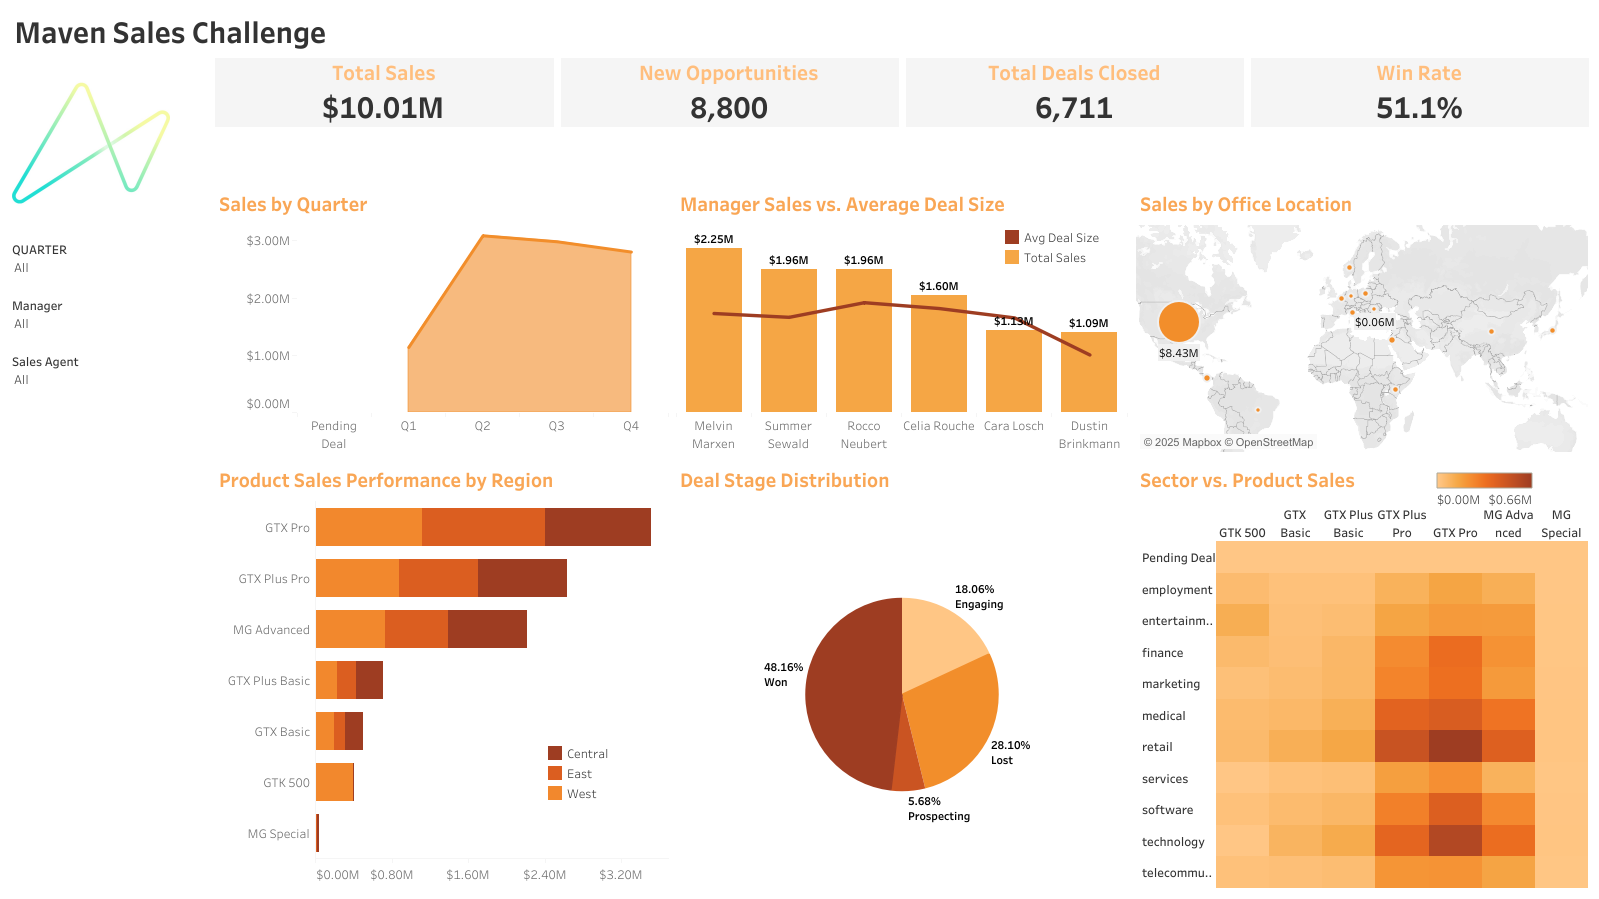

What the dashboard file says about the page in this screenshot:
{"tool":"tableau","page":{"name":"Dashboard 1","canvas":[1600,900],"ordinal":0},"visuals":[{"type":"title","box":[8,8,1584,46]},{"type":"image","param":"Image/IMG_20250310_220625.jpg","box":[8,54,203,181]},{"type":"worksheet","title":"Total Sales","mark":"Automatic","box":[211,54,346,126]},{"type":"worksheet","title":"New Opportunities","mark":"Automatic","box":[557,54,345,126]},{"type":"worksheet","title":"Total Deals Closed","mark":"Automatic","box":[902,54,345,126]},{"type":"worksheet","title":"Win Rate","mark":"Automatic","box":[1247,54,345,126]},{"type":"worksheet","title":"Sales by Quarter","mark":"Automatic","rows":["close_value","close_value"],"cols":["Calculation_1055587341947096"],"box":[211,180,461,276]},{"type":"worksheet","title":"Manager Performance","mark":"Bar","rows":["close_value","Calculation_1055587366281436"],"cols":["manager"],"box":[672,180,460,276]},{"type":"worksheet","title":"Sales by Office Location","mark":"Automatic","box":[1132,180,460,276]},{"type":"legend","title":"Manager Performance","param":"[federated.0a6i2am0qzos8m19b3bhc1v8gcqb].[:Measure Names]","box":[1002,227,118,47]},{"type":"filter","title":"Sales by Quarter","param":"[federated.0a6i2am0qzos8m19b3bhc1v8gcqb].[none:Calculation_1055587341947096:nk]","box":[8,235,203,56]},{"type":"filter","title":"Sales by Quarter","param":"[federated.0a6i2am0qzos8m19b3bhc1v8gcqb].[none:manager:nk]","box":[8,291,203,56]},{"type":"filter","title":"Sales by Quarter","param":"[federated.0a6i2am0qzos8m19b3bhc1v8gcqb].[none:sales_agent:nk]","box":[8,347,203,56]},{"type":"blank","box":[8,403,203,163]},{"type":"worksheet","title":"Product Sales Performance by Region","mark":"Automatic","rows":["product"],"cols":["close_value"],"box":[211,456,461,436]},{"type":"worksheet","title":"Deal Stage Distribution","mark":"Pie","box":[672,456,460,436]},{"type":"worksheet","title":"Sector vs. Product Sales","mark":"Automatic","rows":["sector"],"cols":["product"],"box":[1132,456,460,436]},{"type":"legend","title":"Sector vs. Product Sales","param":"[federated.0a6i2am0qzos8m19b3bhc1v8gcqb].[sum:close_value:qk]","box":[1433,469,104,44]},{"type":"blank","box":[8,566,203,163]},{"type":"blank","box":[8,729,203,163]},{"type":"legend","title":"Product Sales Performance by Region","param":"[federated.0a6i2am0qzos8m19b3bhc1v8gcqb].[none:regional_office:nk]","box":[545,743,123,78]}]}

Visuals, with their boxes in screenshot pixels (x1, y1, x2, y2), scaled from the page's 1600x900 canvas onto the 1599x899 screenshot:
title: box=[8, 8, 1591, 54]
image: box=[8, 54, 211, 235]
"Total Sales" worksheet: box=[211, 54, 557, 180]
"New Opportunities" worksheet: box=[557, 54, 901, 180]
"Total Deals Closed" worksheet: box=[901, 54, 1246, 180]
"Win Rate" worksheet: box=[1246, 54, 1591, 180]
"Sales by Quarter" worksheet: box=[211, 180, 672, 455]
"Manager Performance" worksheet (Bar marks): box=[672, 180, 1131, 455]
"Sales by Office Location" worksheet: box=[1131, 180, 1591, 455]
"Manager Performance" legend: box=[1001, 227, 1119, 274]
"Sales by Quarter" filter: box=[8, 235, 211, 291]
"Sales by Quarter" filter: box=[8, 291, 211, 347]
"Sales by Quarter" filter: box=[8, 347, 211, 403]
blank: box=[8, 403, 211, 565]
"Product Sales Performance by Region" worksheet: box=[211, 455, 672, 891]
"Deal Stage Distribution" worksheet (Pie marks): box=[672, 455, 1131, 891]
"Sector vs. Product Sales" worksheet: box=[1131, 455, 1591, 891]
"Sector vs. Product Sales" legend: box=[1432, 468, 1536, 512]
blank: box=[8, 565, 211, 728]
blank: box=[8, 728, 211, 891]
"Product Sales Performance by Region" legend: box=[545, 742, 668, 820]
